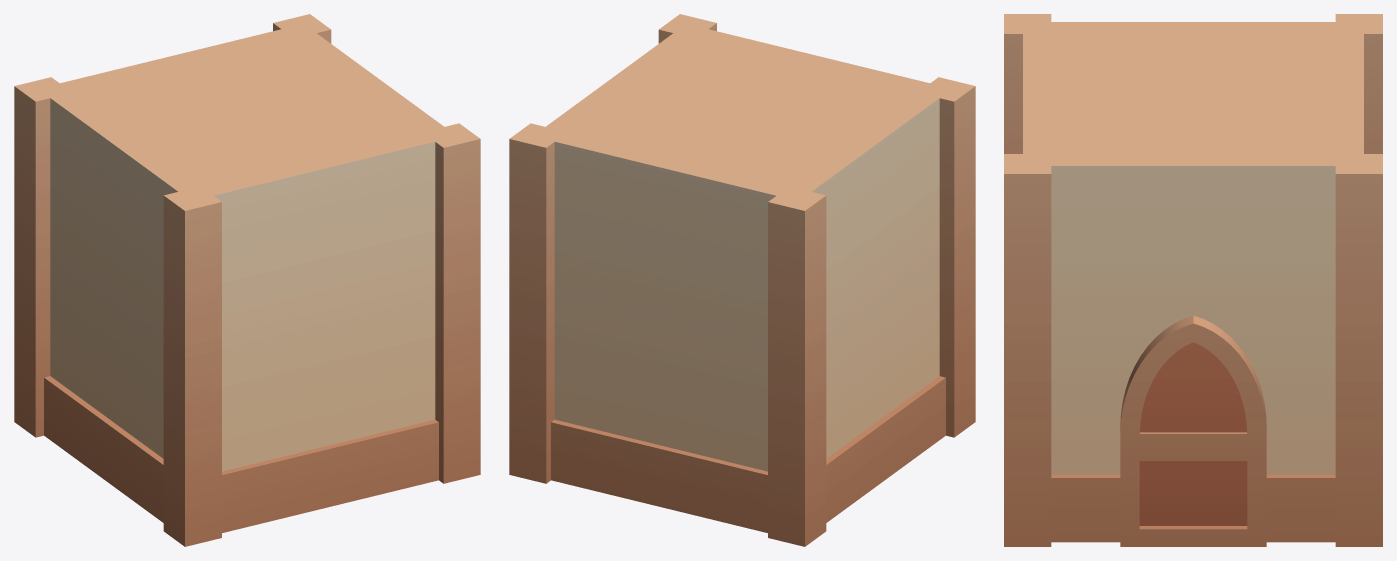
File: tower-square-mid-door.glb
3 views of the same model, side by side, from view 1: azimuth 30°, elevation 25°; view 2: azimuth 150°, elevation 25°; view 3: azimuth 270°, elevation 25° (orthographic). The views are drawn at different scales.
Parts seen in each view (by area): view 1: tower-square-mid-door; view 2: tower-square-mid-door; view 3: tower-square-mid-door.
Part boxes in pixels (x1=…): tower-square-mid-door: x1=14, y1=14, x2=480, y2=546; tower-square-mid-door: x1=509, y1=14, x2=975, y2=546; tower-square-mid-door: x1=1004, y1=14, x2=1382, y2=546.
Bounding box in the file's own units: 0.93 × 1.01 × 0.93.
Materials: 1 (1 with a texture image).
